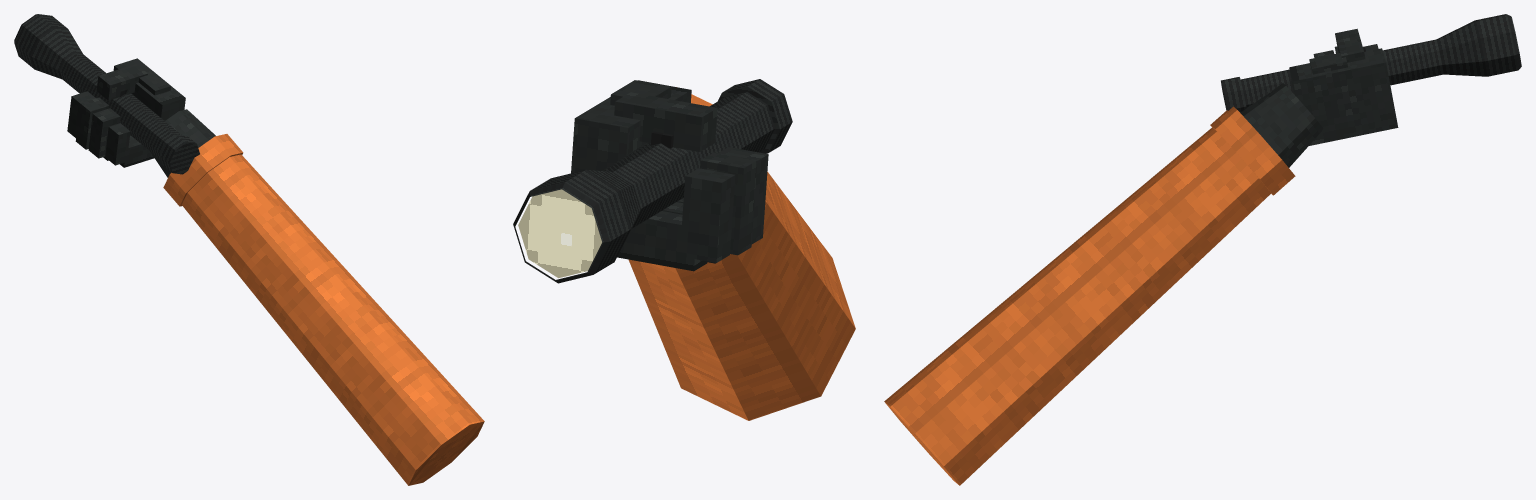
Rendered from vm_flashlight.glb.
3 views of the same model, side by side, from view 1: azimuth 30°, elevation 25°; view 2: azimuth 150°, elevation 25°; view 3: azimuth 270°, elevation 25° (orthographic). The views are drawn at different scales.
Parts seen in each view (by area): view 1: Arms, Item; view 2: Arms, Item; view 3: Arms, Item.
Boxes of the visible parts, x1=… form: Arms: x1=67, y1=58, x2=484, y2=485; Item: x1=14, y1=14, x2=199, y2=174; Arms: x1=571, y1=80, x2=855, y2=420; Item: x1=513, y1=79, x2=792, y2=283; Arms: x1=884, y1=28, x2=1398, y2=485; Item: x1=1221, y1=14, x2=1521, y2=112.
Bounding box in the file's own units: 0.2805 × 0.4002 × 0.6046.
5 materials, 5 textured.
